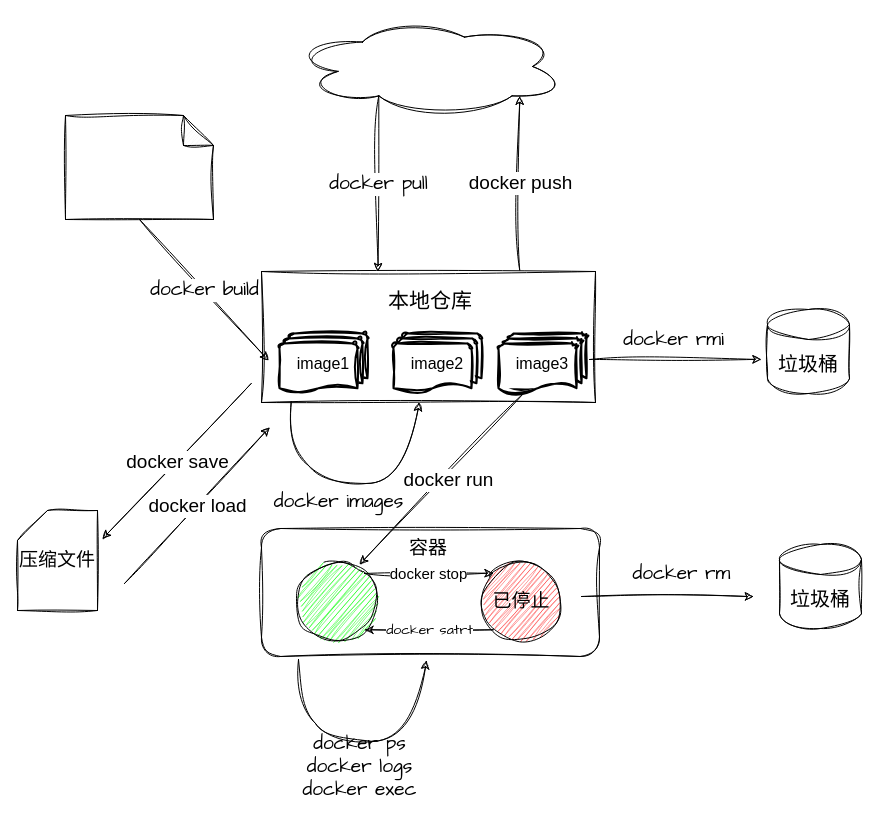
This 879x819 diagram has some shape labels left out. Each missing label, with the centre of its shape:
DOCKERFILE: the point at 139,167
运行中: the point at 336,601
镜像仓库: the point at 430,66
